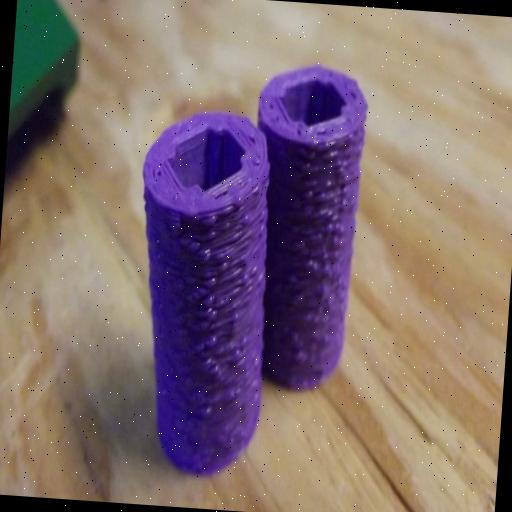blobs: (283, 210, 353, 348), (167, 348, 235, 457), (231, 193, 270, 354), (170, 220, 226, 329), (294, 144, 366, 204)
